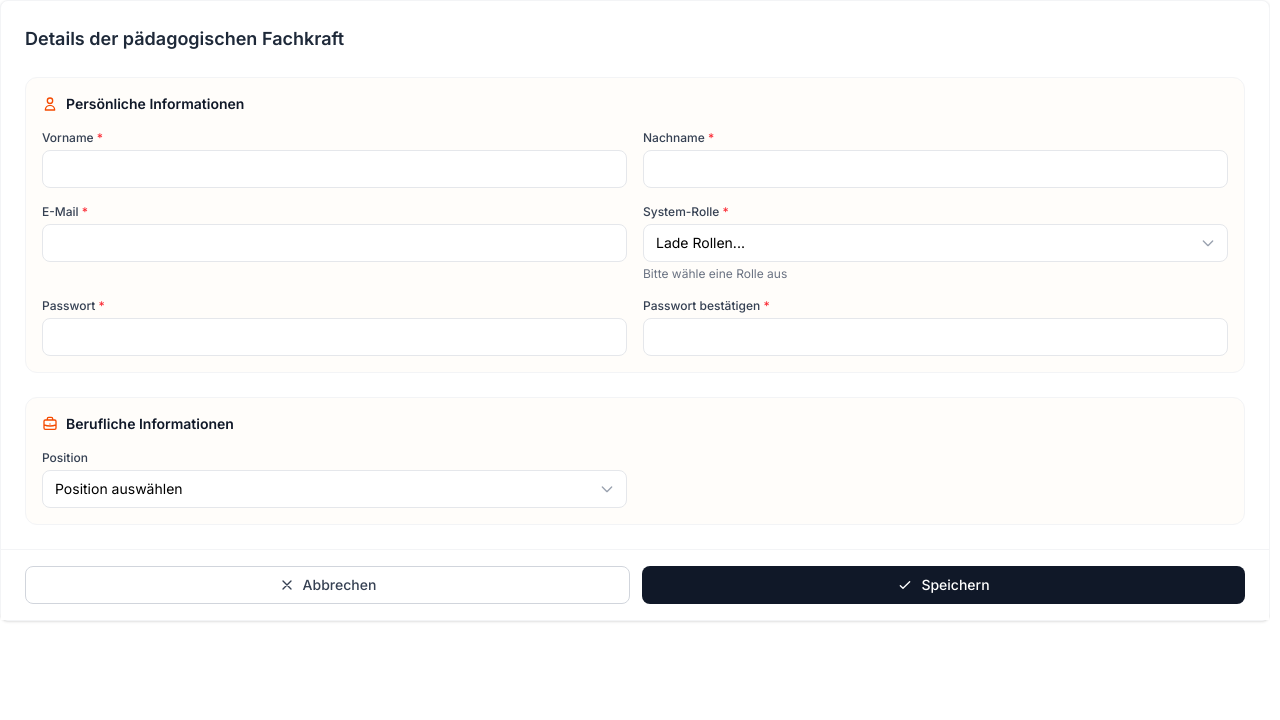
it: TeacherForm › validates email format for new teacher
Type "John" into the field labelled "Vorname *". click: (334, 169)
box: [42, 150, 627, 188]
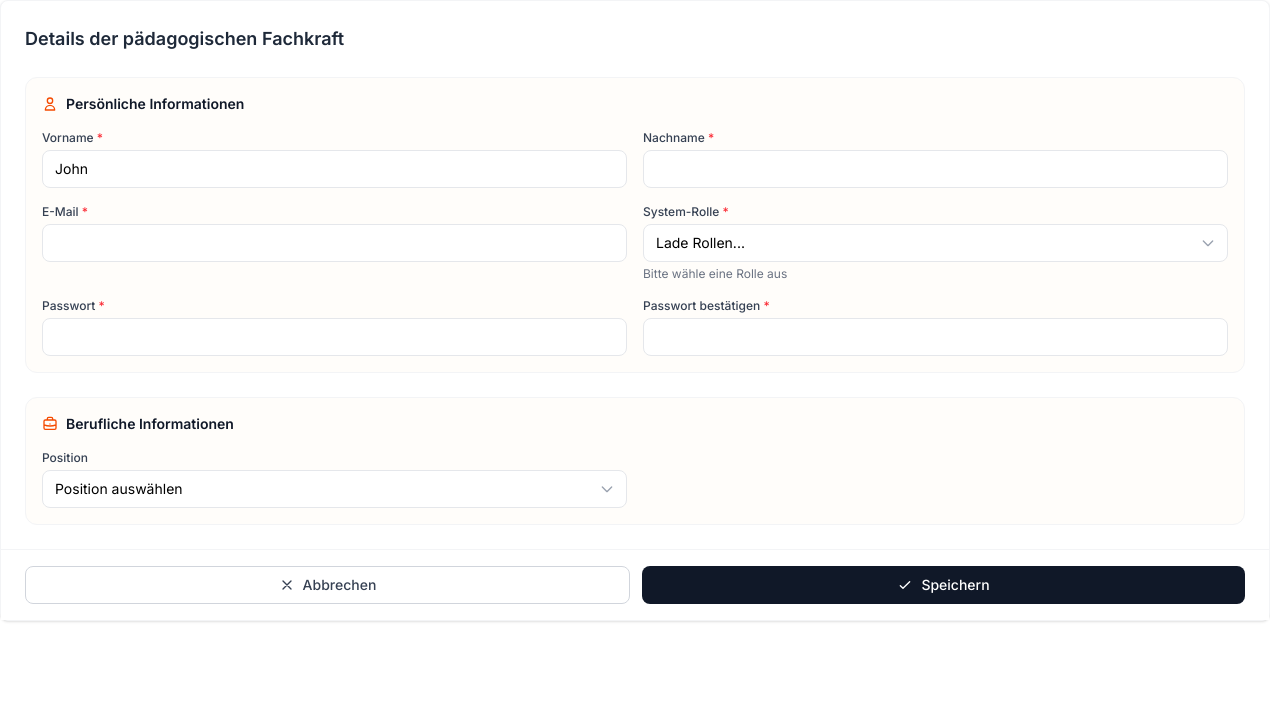
Type "Doe" into the field labelled "Nachname *". click: (936, 169)
box: [643, 150, 1228, 188]
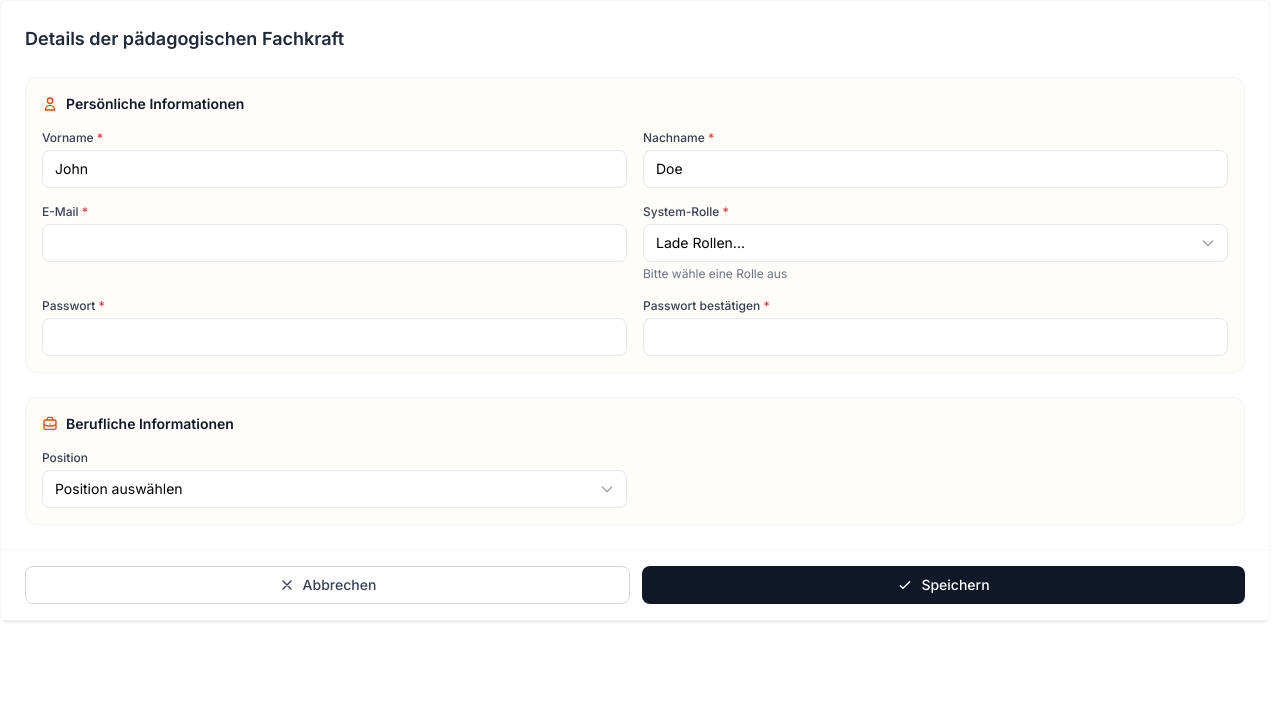
Type "invalid-email" into the field labelled "E-Mail *". click: (334, 243)
box: [42, 224, 627, 262]
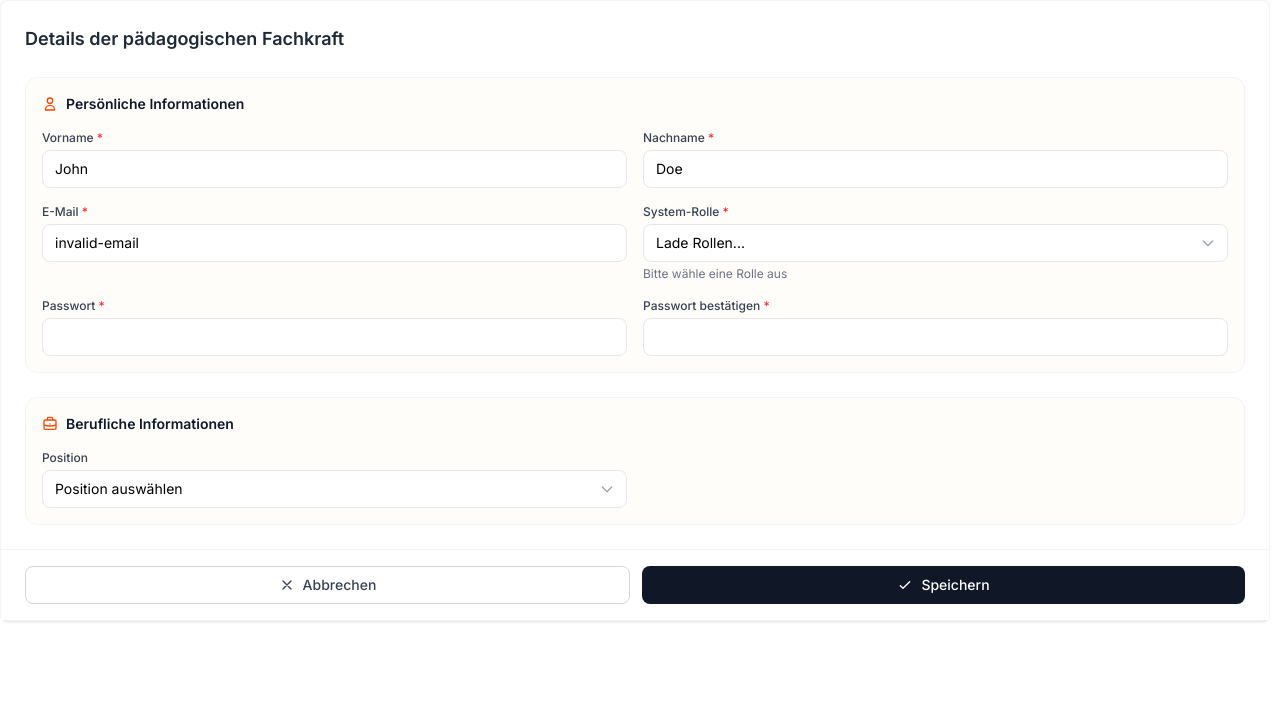
Click the button "Speichern". click: (944, 585)
box: [642, 566, 1245, 604]
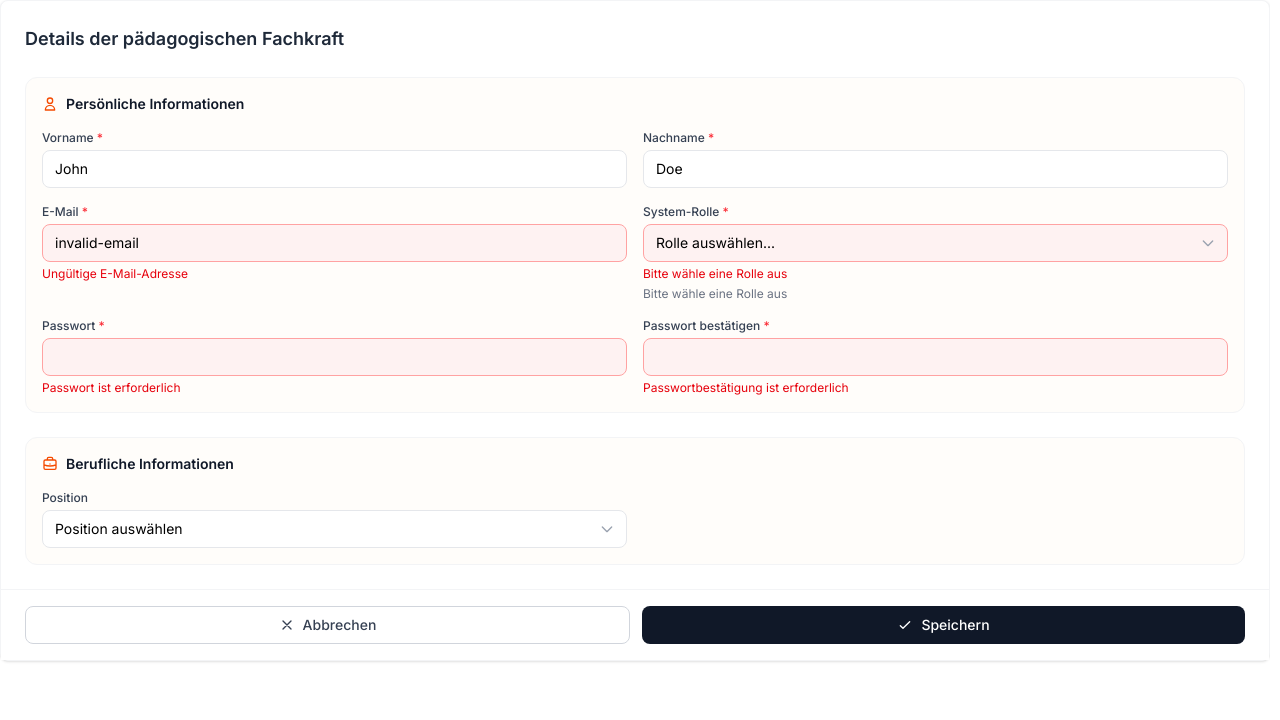
expect the text "Ungültige E-Mail-Adresse" is shown: met, box [42, 266, 188, 281]
